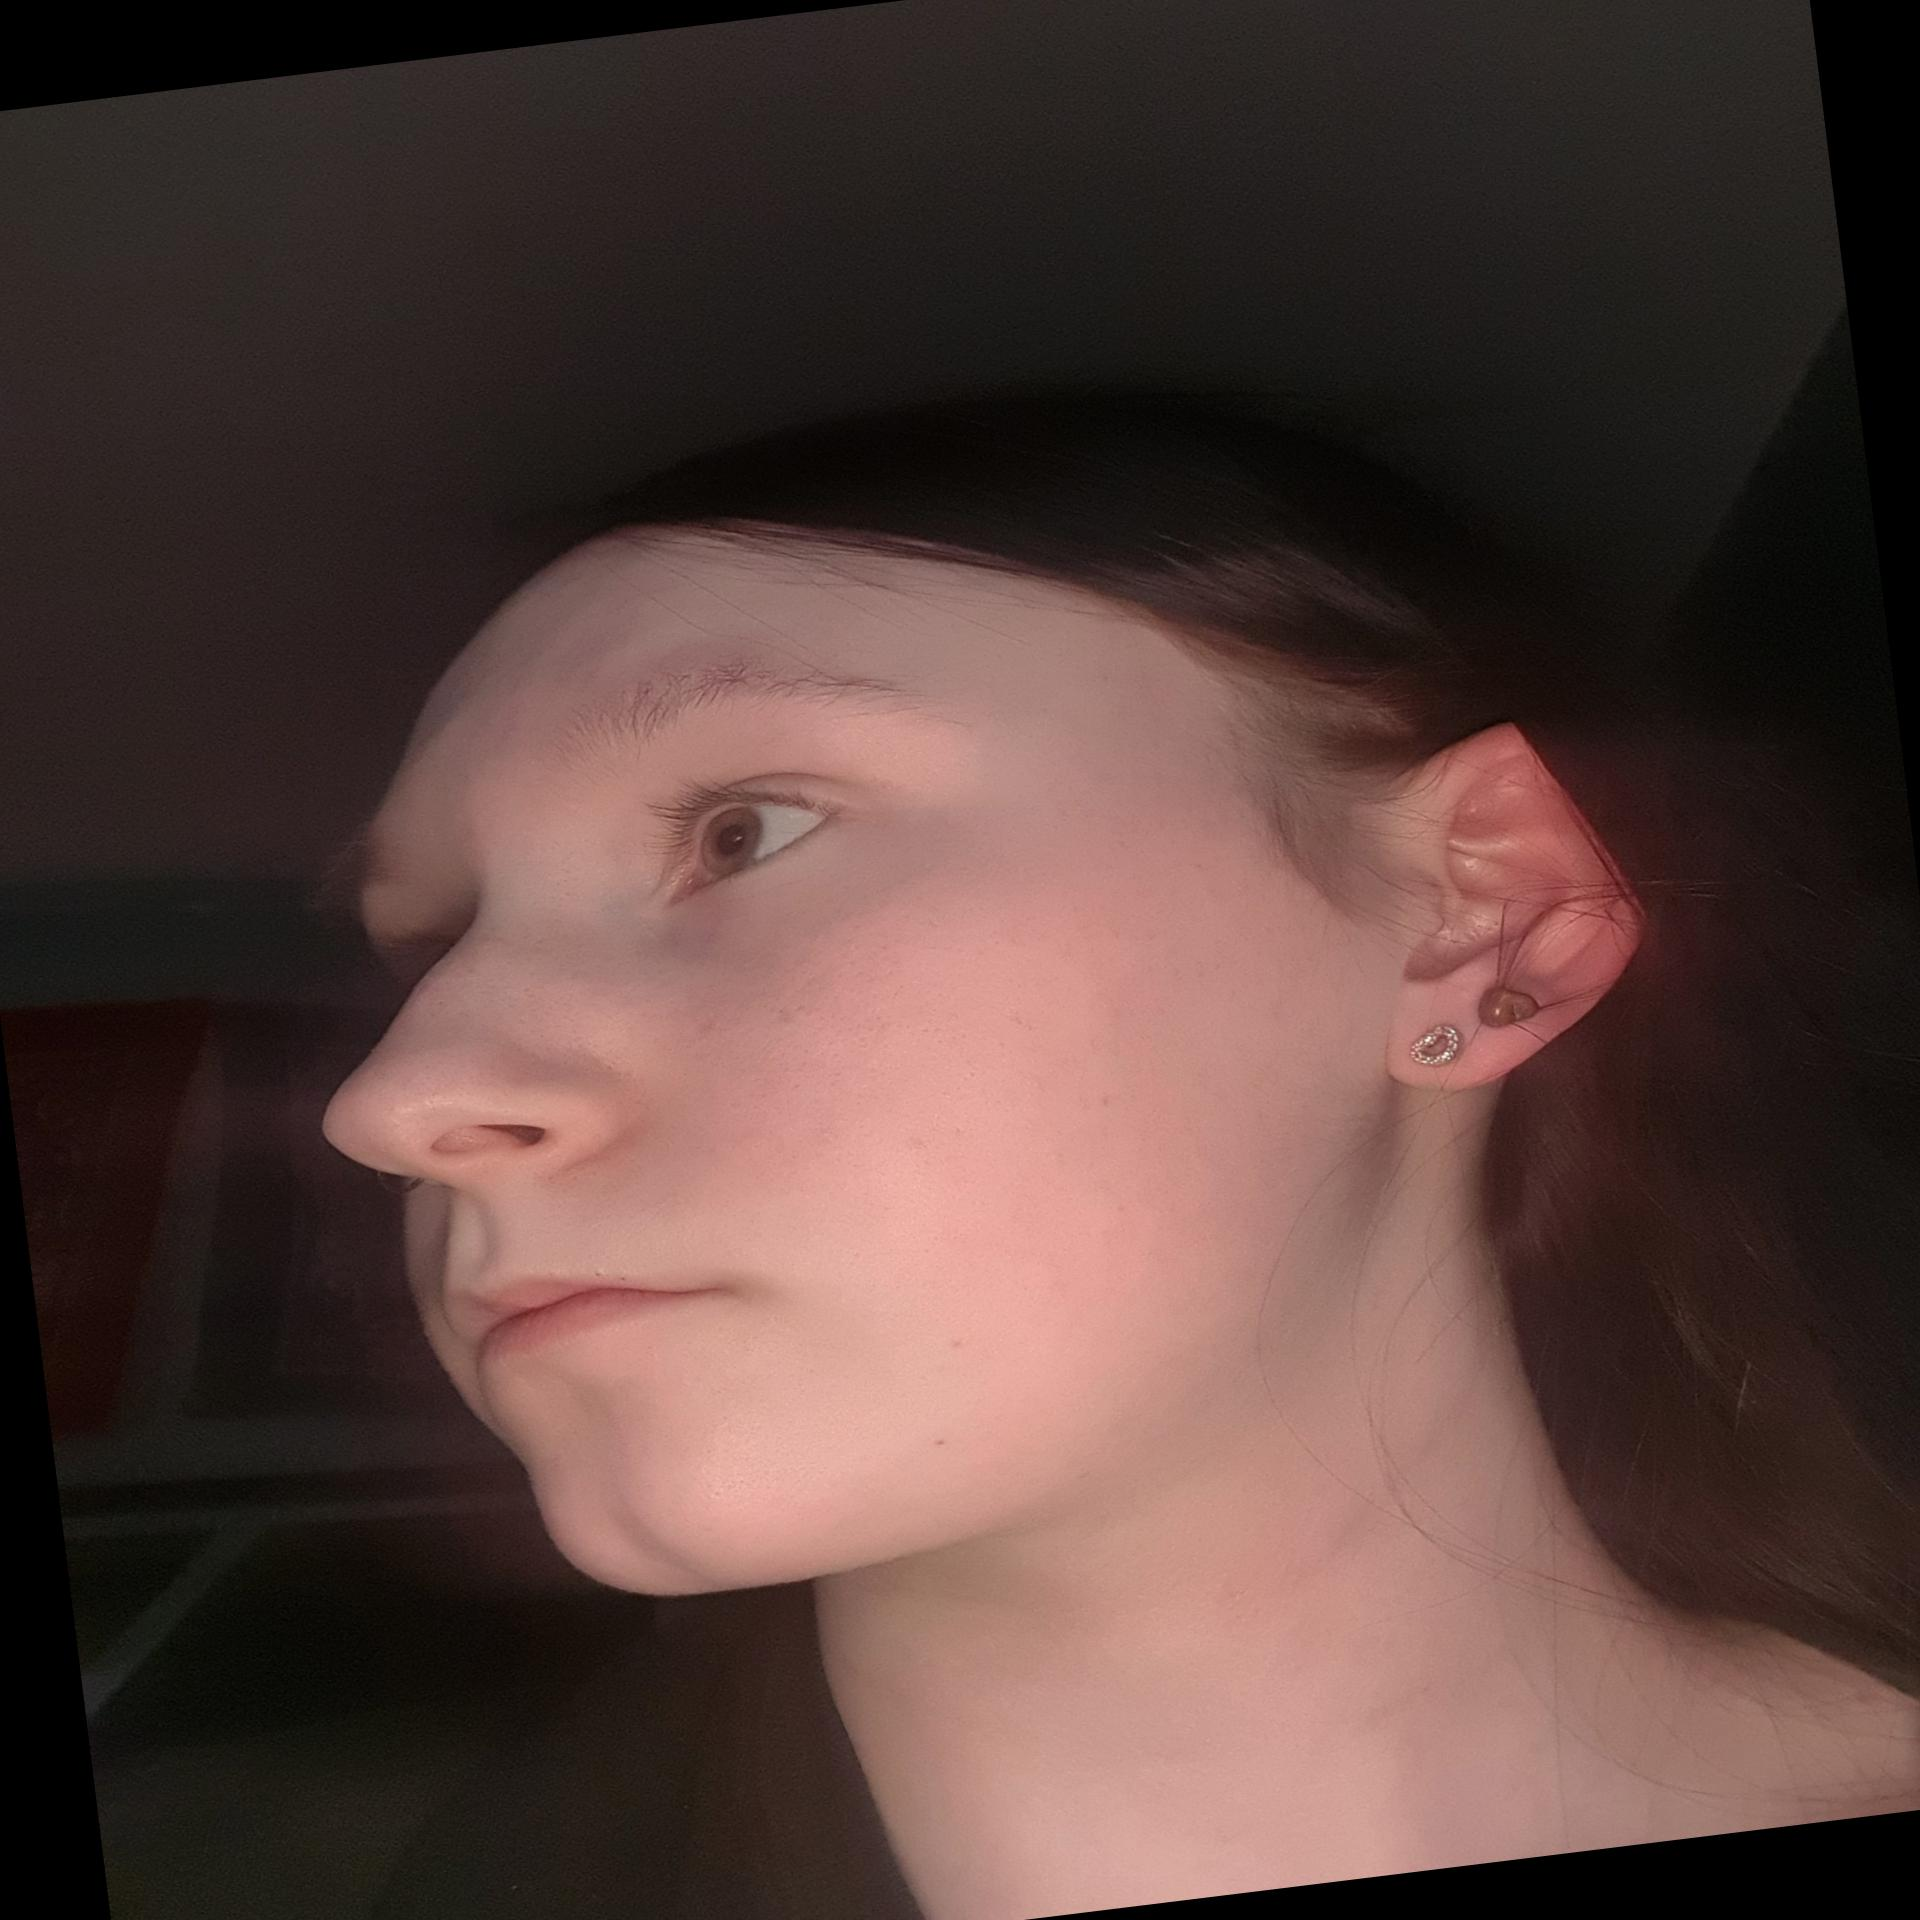Englarged Pores: (659, 923, 953, 1201)
